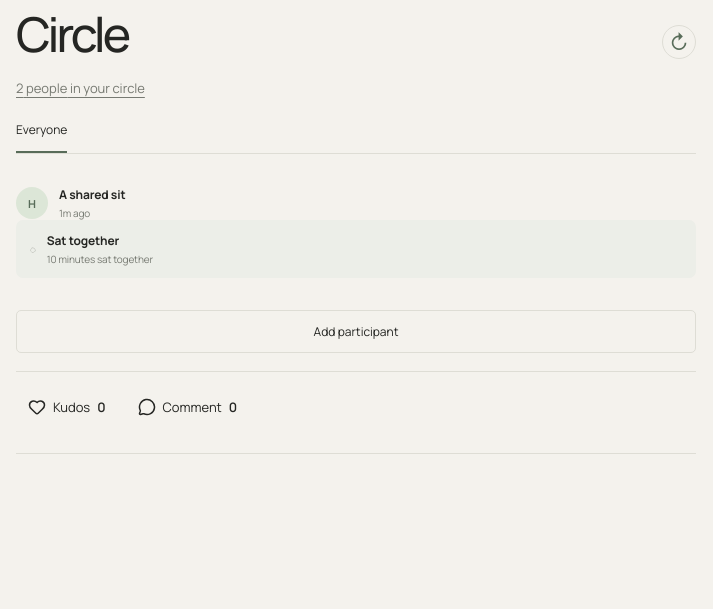
keeps participant controls usable when a feed snapshot omits its participant list
Step 1. Click the button "Add participant" → (356, 332), box [16,310,696,353]
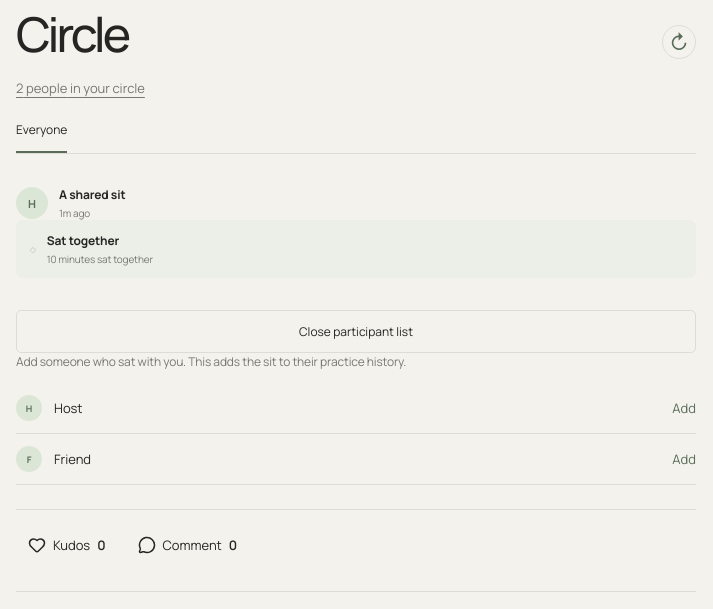
Expected: the button "F Friend Add" is enabled, [16,434,696,485]
